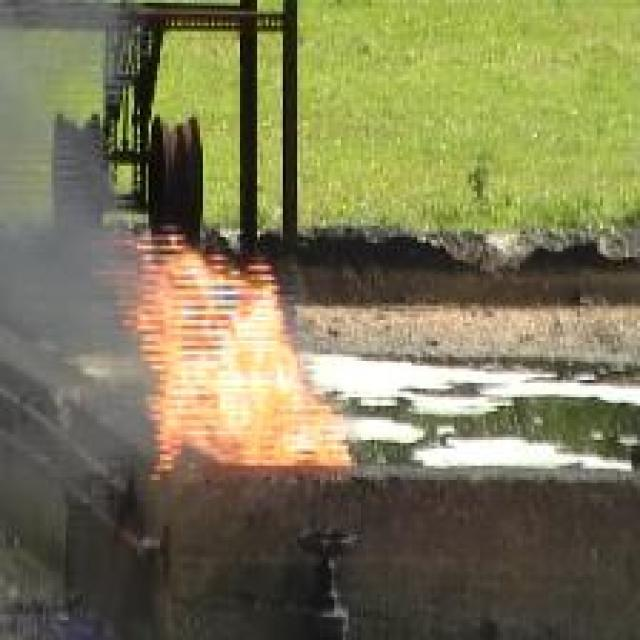Fire: (125, 225, 362, 466)
